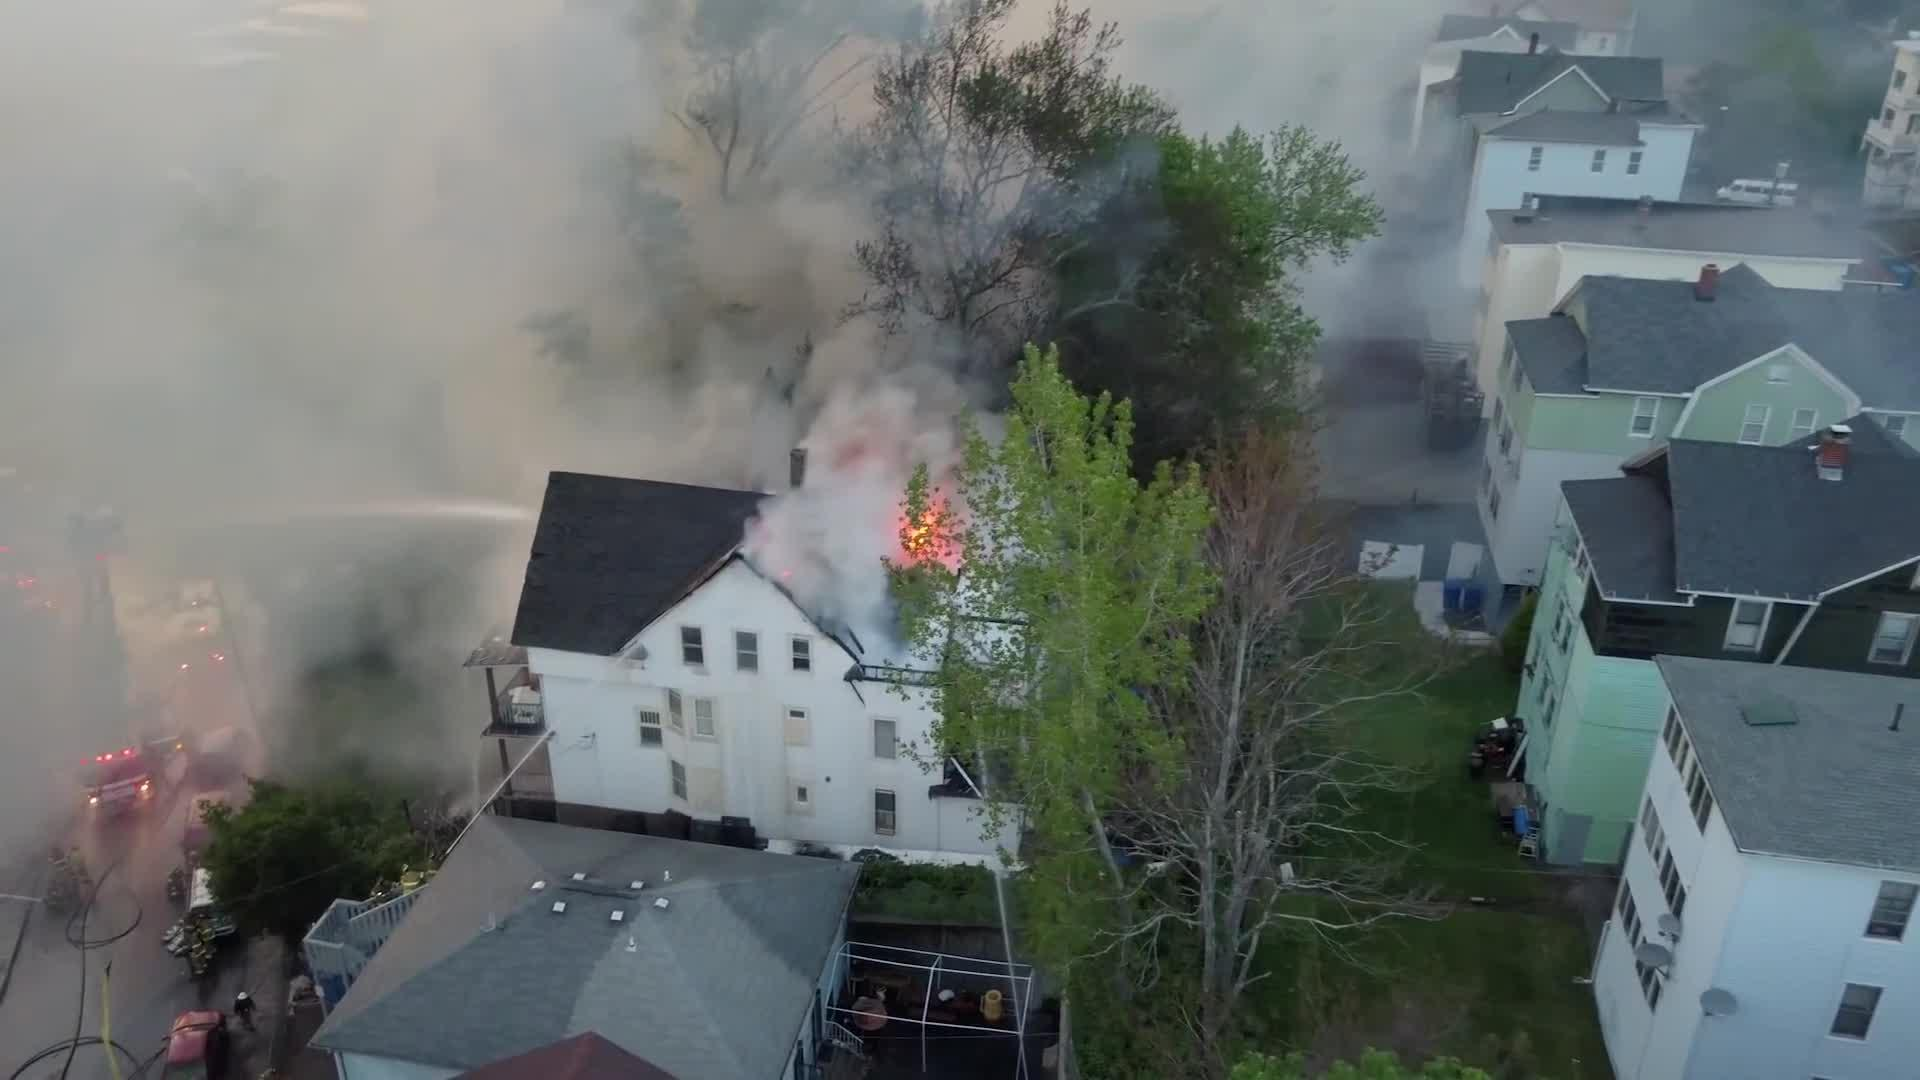smoke: (15, 30, 530, 617), (563, 17, 837, 469)
